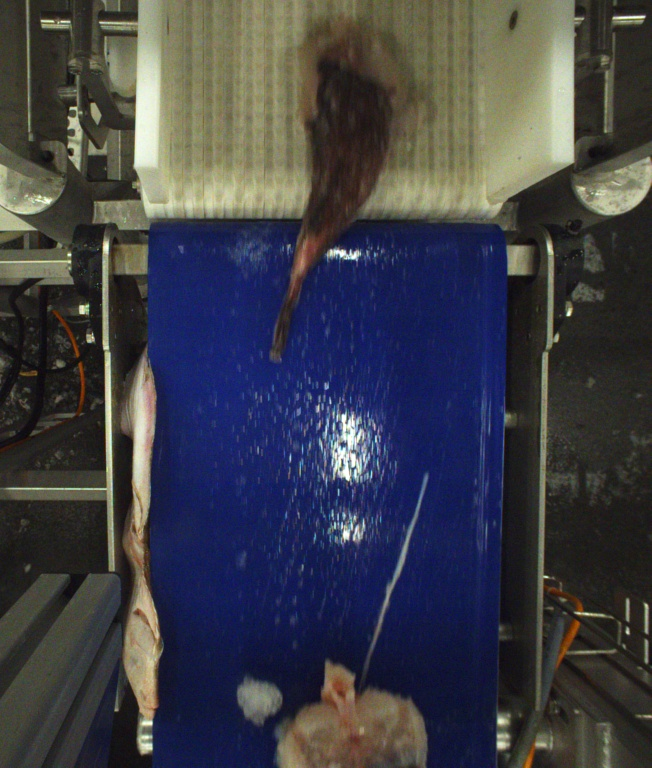ANF: (271, 22, 397, 371)
